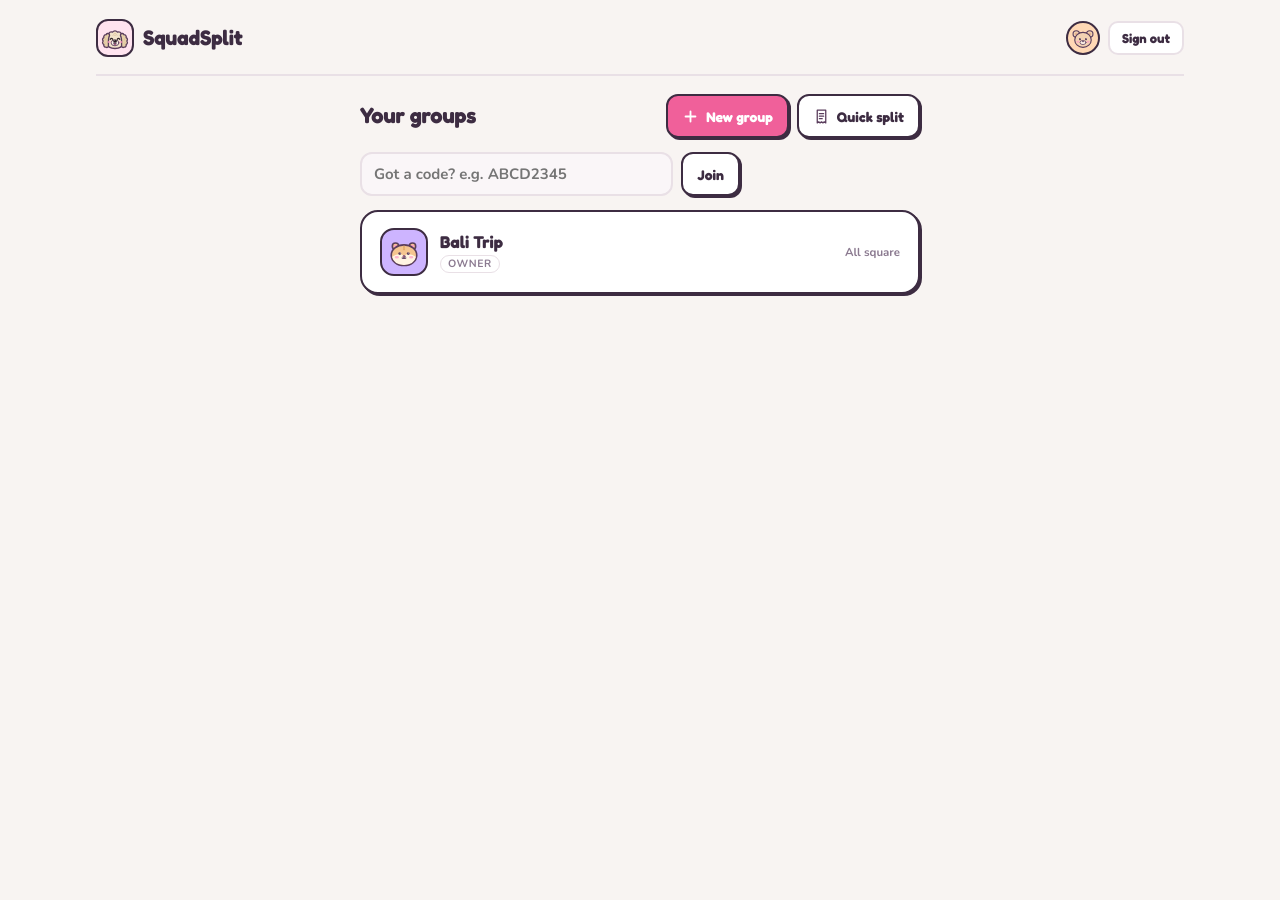
page transitions › moves from the group list to a group with a view transition
Click the link "Bali Trip Owner All square".
click(404, 252)  # box [360,210,920,294]
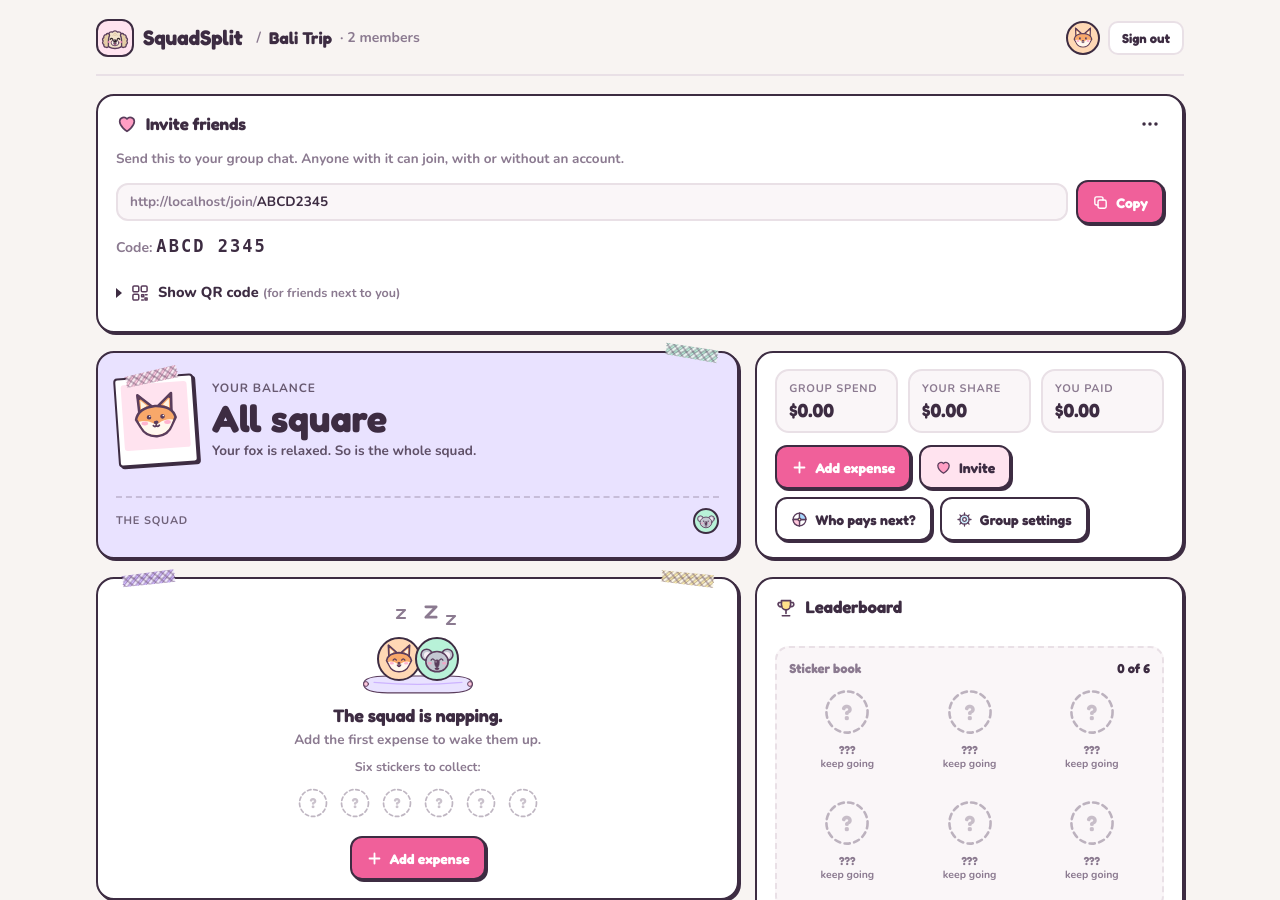
Expected: the element named "Group stats" is shown, [755,350,1184,559]
